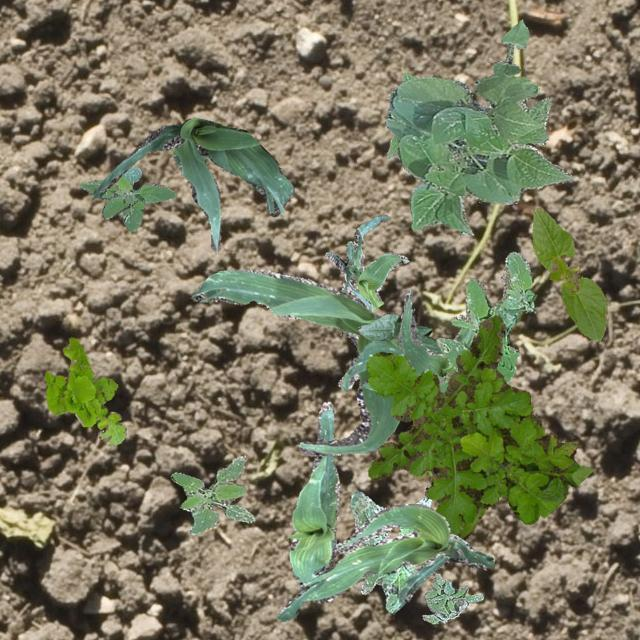crop: (190, 268, 404, 456), (384, 74, 572, 235), (91, 118, 292, 252), (276, 502, 494, 620), (362, 290, 472, 388), (530, 206, 606, 340), (286, 401, 338, 588), (324, 213, 408, 310), (356, 312, 442, 352), (386, 72, 416, 158), (492, 18, 528, 76)
weed: (366, 314, 592, 538), (434, 250, 536, 392), (348, 490, 431, 612), (44, 336, 126, 444), (170, 456, 253, 534), (78, 166, 175, 232), (422, 572, 482, 624), (412, 470, 432, 480)
